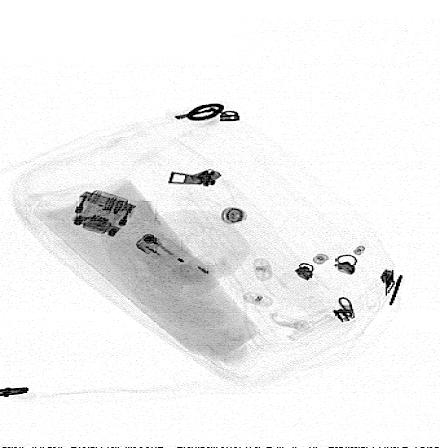Lighter: (135, 233, 212, 284)
